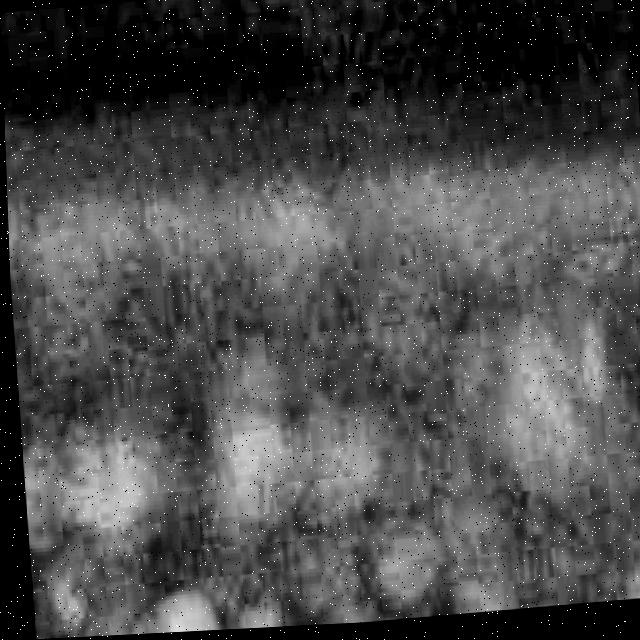dog: (511, 0, 640, 607)
